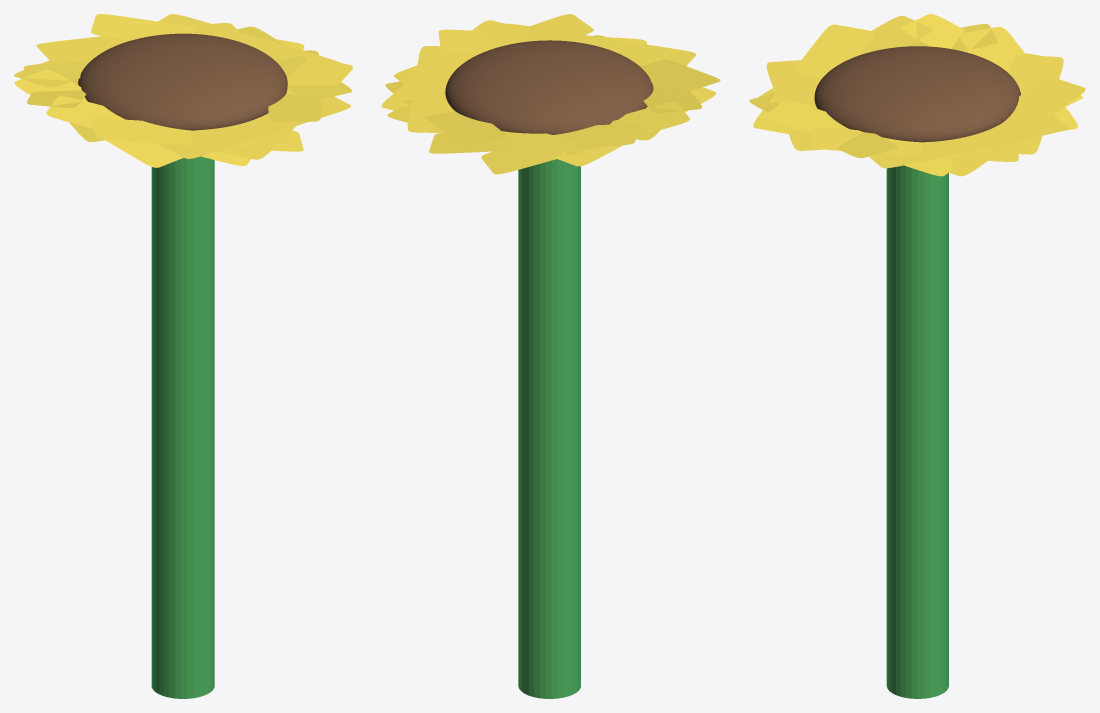
The picture shows the model from 3 angles, left to right: view 1: azimuth 30°, elevation 25°; view 2: azimuth 150°, elevation 25°; view 3: azimuth 270°, elevation 25°; orthographic projection.
Visible parts, largest first — view 1: object 15, object 1, Plane.010, Plane.009, Plane.011, Plane.007, Plane.002, Plane.001, Plane.008, Plane.003, Plane, Plane.012 (+2 smaller); view 2: object 15, object 1, Plane.001, Plane.005, Plane.004, Plane, Plane.002, Plane.010, Plane.003, Plane.012, Plane.009, Plane.011 (+2 smaller); view 3: object 15, object 1, Plane.002, Plane.001, Plane.009, Plane.010, Plane.012, Plane, Plane.003, Plane.004, Plane.008, Plane.011 (+2 smaller).
Part boxes in pixels (left/top/right/bottom): object 15: left=151, top=156, right=214, bottom=698; object 1: left=78, top=33, right=287, bottom=130; Plane.010: left=159, top=96, right=350, bottom=158; Plane.009: left=91, top=118, right=303, bottom=151; Plane.011: left=218, top=57, right=352, bottom=159; Plane.007: left=14, top=69, right=183, bottom=167; Plane.002: left=91, top=14, right=304, bottom=50; Plane.001: left=158, top=14, right=341, bottom=63; Plane.008: left=46, top=96, right=250, bottom=166; Plane.003: left=36, top=23, right=238, bottom=63; Plane: left=237, top=26, right=351, bottom=100; Plane.012: left=268, top=50, right=321, bottom=121; object 15: left=518, top=159, right=580, bottom=698; object 1: left=445, top=40, right=653, bottom=134; Plane.001: left=407, top=46, right=454, bottom=133; Plane.005: left=481, top=102, right=689, bottom=174; Plane.004: left=429, top=124, right=639, bottom=153; Plane: left=381, top=20, right=526, bottom=110; Plane.002: left=385, top=81, right=506, bottom=145; Plane.010: left=505, top=23, right=696, bottom=66; Plane.003: left=387, top=106, right=576, bottom=158; Plane.012: left=394, top=14, right=593, bottom=84; Plane.009: left=593, top=35, right=720, bottom=92; Plane.011: left=438, top=29, right=646, bottom=52; object 15: left=886, top=165, right=948, bottom=698; object 1: left=814, top=46, right=1020, bottom=142; Plane.002: left=949, top=77, right=1085, bottom=176; Plane.001: left=869, top=115, right=1067, bottom=168; Plane.009: left=753, top=24, right=873, bottom=134; Plane.010: left=766, top=60, right=822, bottom=150; Plane.012: left=764, top=100, right=954, bottom=176; Plane: left=811, top=128, right=1018, bottom=161; Plane.003: left=1004, top=54, right=1063, bottom=154; Plane.004: left=959, top=27, right=1077, bottom=131; Plane.008: left=759, top=16, right=932, bottom=96; Plane.011: left=749, top=93, right=897, bottom=157.
Bounding box in the file's own units: 0.6408 × 1.31 × 0.6491.
